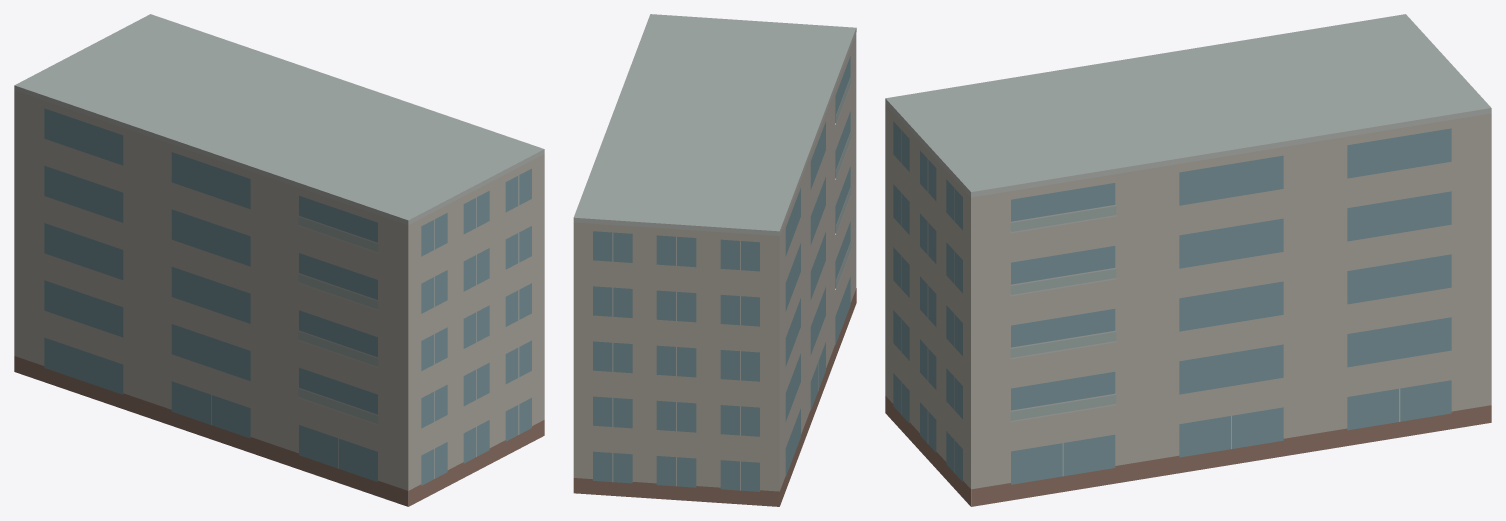
Rendered from survey-upis-32751065.glb.
The picture shows the model from 3 angles, left to right: view 1: azimuth 30°, elevation 25°; view 2: azimuth 150°, elevation 25°; view 3: azimuth 270°, elevation 25°; orthographic projection. The views are drawn at different scales.
Visible parts, largest first — view 1: survey-upis-32751065.tmp; view 2: survey-upis-32751065.tmp; view 3: survey-upis-32751065.tmp.
Part boxes in pixels (x1,y1,x2,y2): survey-upis-32751065.tmp: (14, 14, 544, 506); survey-upis-32751065.tmp: (573, 14, 856, 506); survey-upis-32751065.tmp: (885, 14, 1491, 506).
Bounding box in the file's own units: 17.37 × 14.3 × 24.97.
